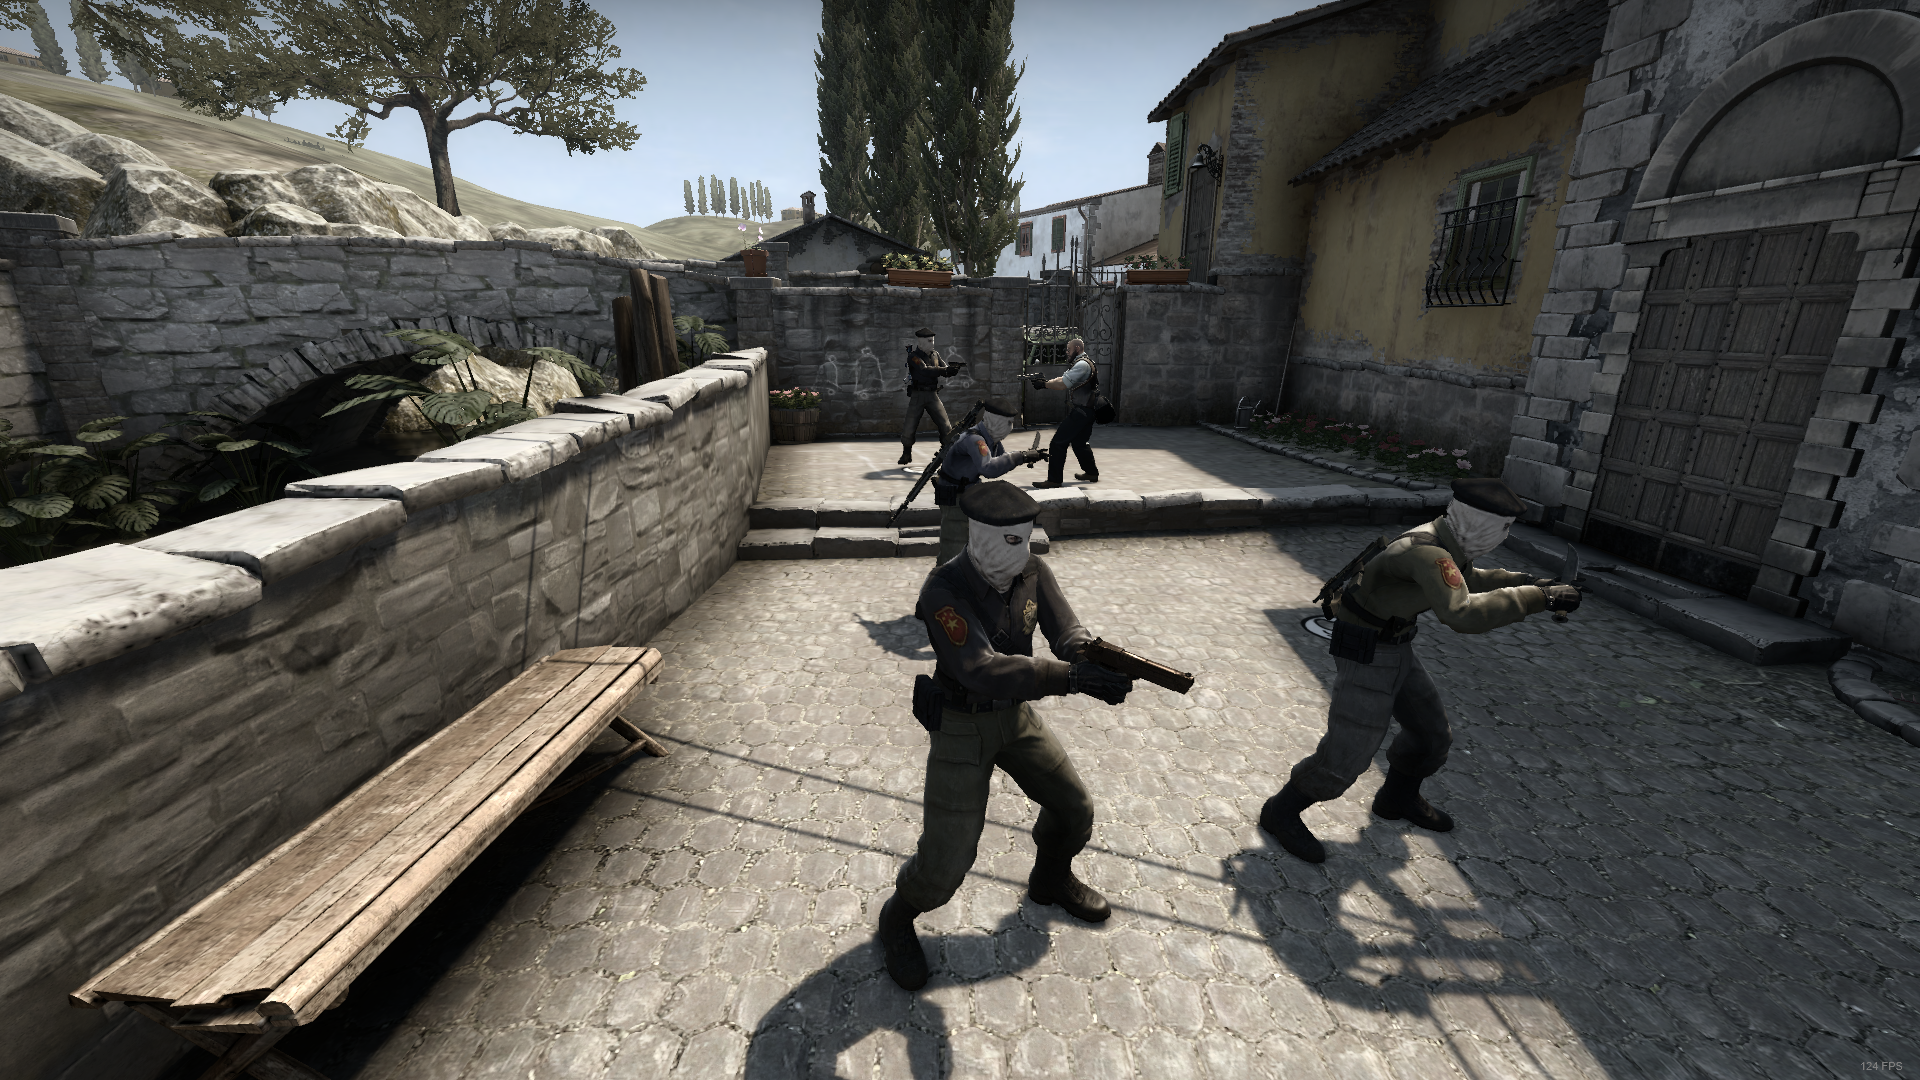t: (1259, 475, 1586, 876), (876, 483, 1134, 980), (913, 397, 1043, 625), (897, 326, 959, 468)
